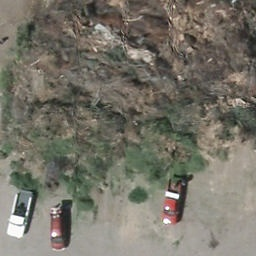car: (50, 205, 72, 250)
pickup: (157, 169, 189, 228), (3, 191, 37, 242)
